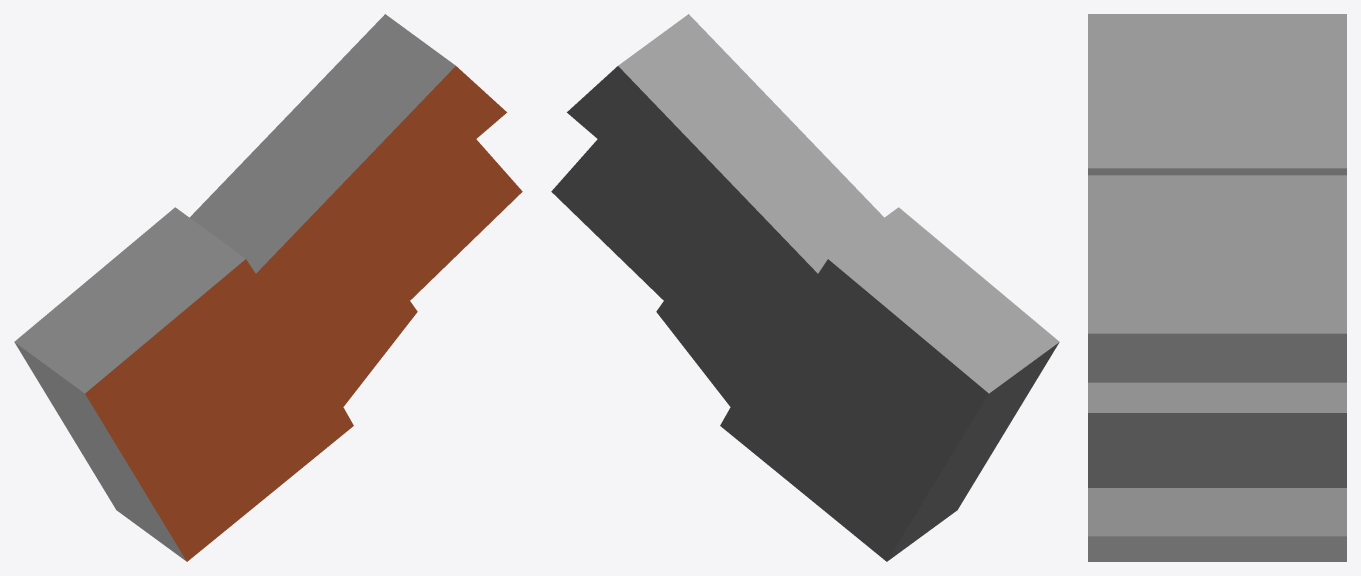
Rendered from construction_4928_assumed_A_Casa_h6m.obj.
3 views of the same model, side by side, from view 1: azimuth 30°, elevation 25°; view 2: azimuth 150°, elevation 25°; view 3: azimuth 270°, elevation 25° (orthographic). The views are drawn at different scales.
Visible parts, largest first — view 1: construction_4928_assumed_A_Casa; view 2: construction_4928_assumed_A_Casa; view 3: construction_4928_assumed_A_Casa.
Boxes of the visible parts, x1,y1,x2,y2 form: construction_4928_assumed_A_Casa: (14,14,522,561); construction_4928_assumed_A_Casa: (551,14,1059,561); construction_4928_assumed_A_Casa: (1088,14,1346,561).
Size of the model in its own units: 21.44 by 20.15 by 6.
